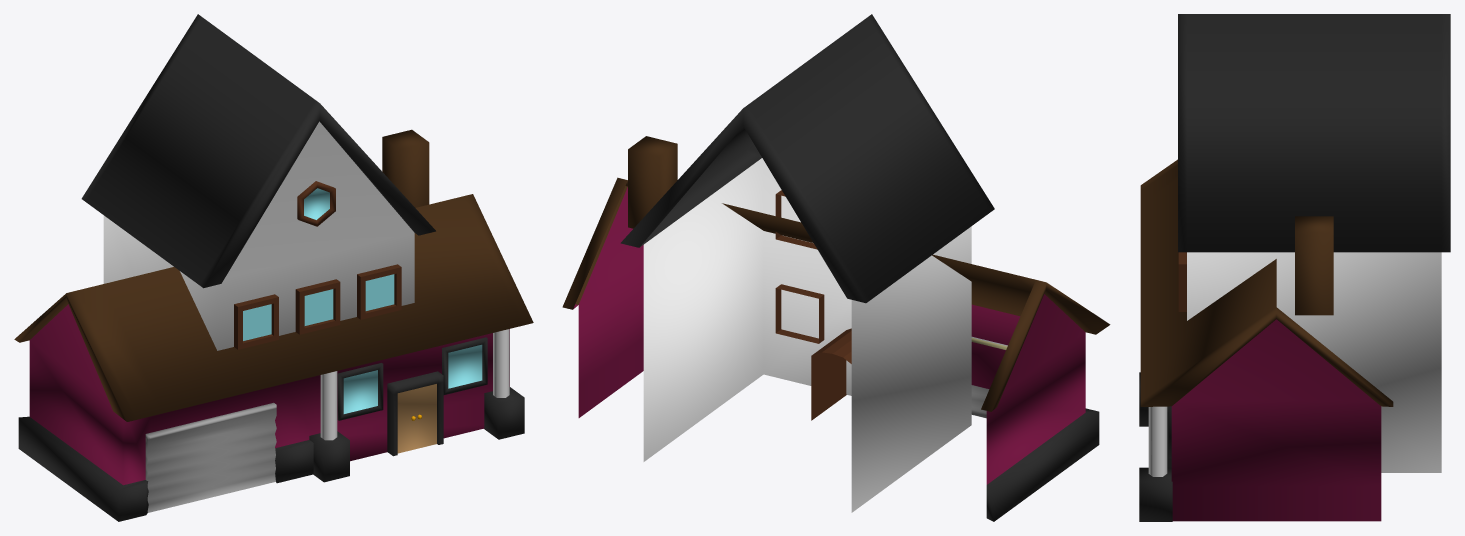
Rendered from casas.fbx.
3 views of the same model, side by side, from view 1: azimuth 30°, elevation 25°; view 2: azimuth 150°, elevation 25°; view 3: azimuth 270°, elevation 25° (orthographic). The views are drawn at different scales.
Parts seen in each view (by area): view 1: Casa_1, Casa1_1; view 2: Casa1_1, Casa_1; view 3: Casa1_1, Casa_1.
Boxes of the visible parts, x1,y1,x2,y2 form: Casa_1: (14, 129, 533, 521); Casa1_1: (81, 14, 435, 350); Casa1_1: (620, 14, 994, 512); Casa_1: (562, 136, 1110, 521); Casa1_1: (1178, 14, 1450, 472); Casa_1: (1139, 159, 1393, 521).
Bounding box in the file's own units: 12.45 × 10.63 × 7.39.
